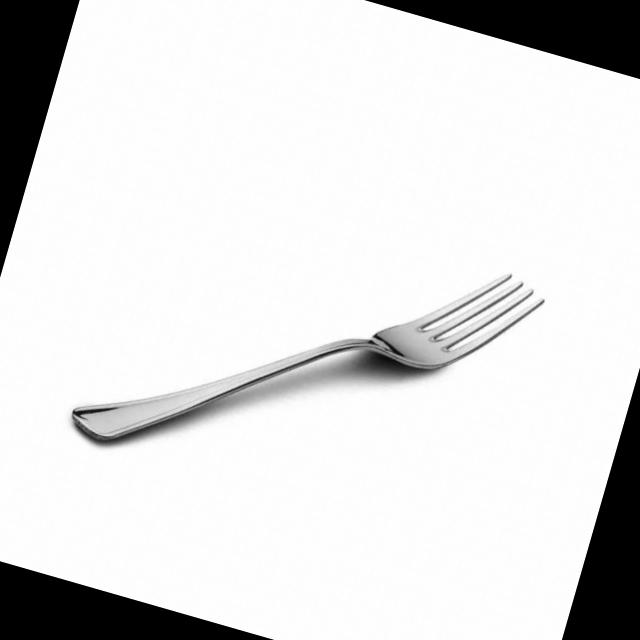fork: (65, 164, 553, 555)
